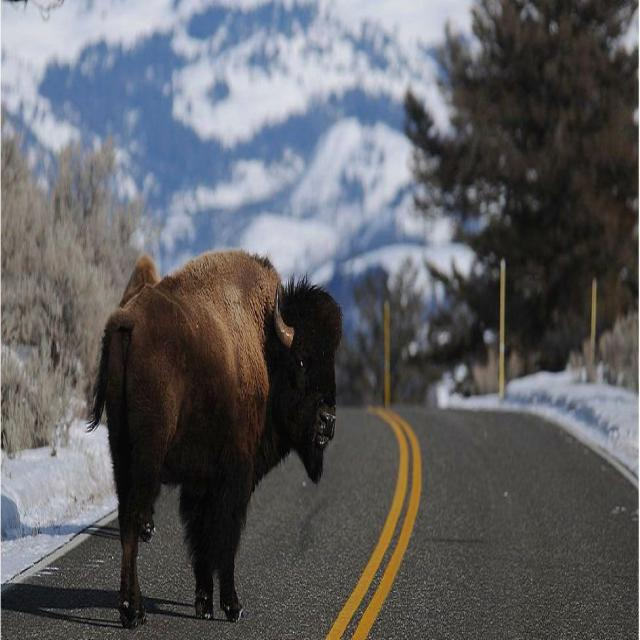bison: (88, 249, 342, 627)
